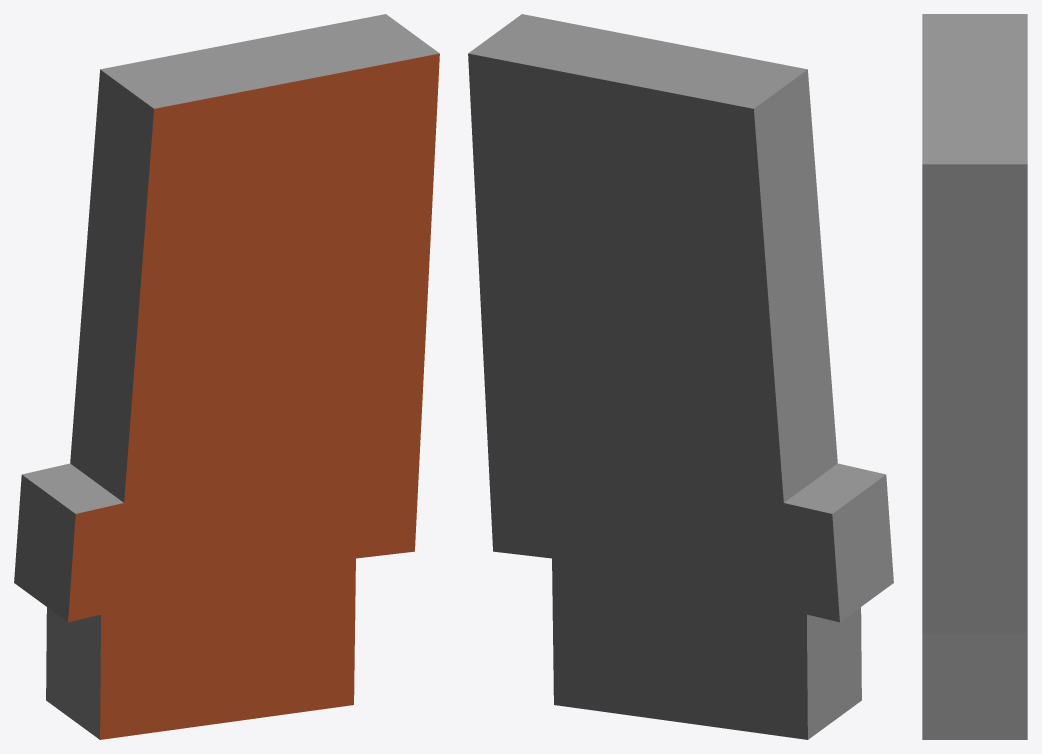
The model's file is construction_5293_assumed_A_Casa_h6m.obj.
The picture shows the model from 3 angles, left to right: view 1: azimuth 30°, elevation 25°; view 2: azimuth 150°, elevation 25°; view 3: azimuth 270°, elevation 25°; orthographic projection. The views are drawn at different scales.
Visible parts, largest first — view 1: construction_5293_assumed_A_Casa; view 2: construction_5293_assumed_A_Casa; view 3: construction_5293_assumed_A_Casa.
Boxes of the visible parts, left/top/right/bottom form: construction_5293_assumed_A_Casa: left=14, top=14, right=439, bottom=739; construction_5293_assumed_A_Casa: left=468, top=14, right=893, bottom=739; construction_5293_assumed_A_Casa: left=922, top=14, right=1027, bottom=739.
Size of the model in its own units: 23.86 by 39.54 by 6.
